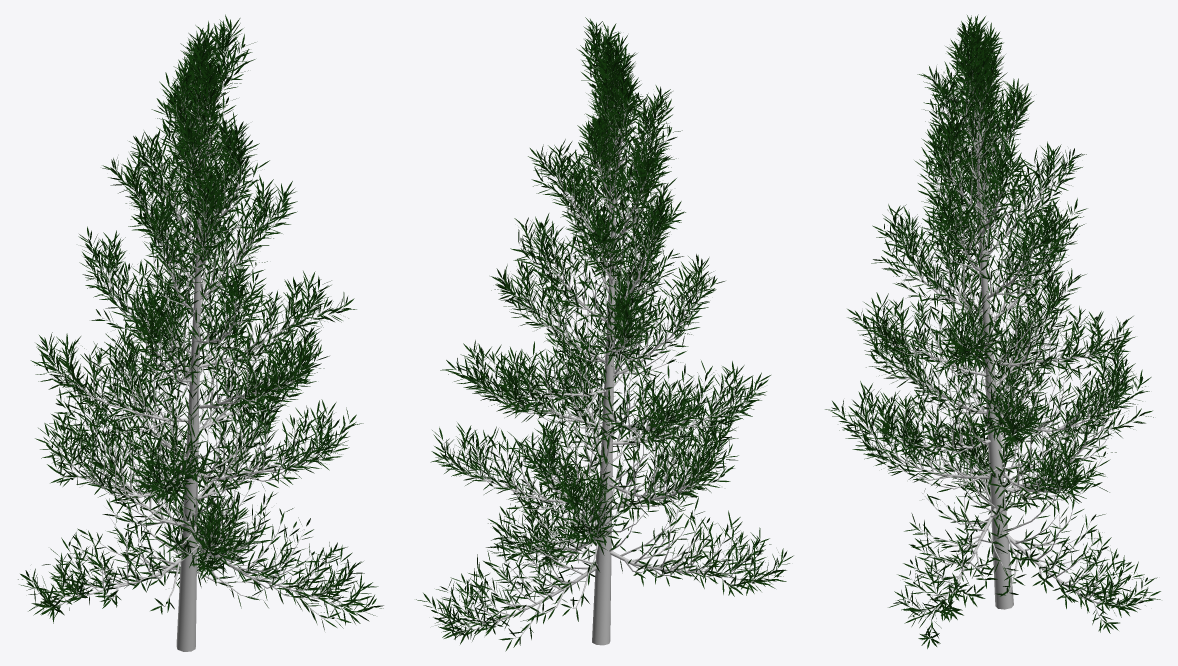
Rendered from Pine.obj.
3 views of the same model, side by side, from view 1: azimuth 30°, elevation 25°; view 2: azimuth 150°, elevation 25°; view 3: azimuth 270°, elevation 25° (orthographic). The views are drawn at different scales.
Parts seen in each view (by area): view 1: leaves, tree_Mesh; view 2: leaves, tree_Mesh; view 3: leaves, tree_Mesh.
Part boxes in pixels (left/top/right/bottom): leaves: left=18, top=14, right=383, bottom=630; tree_Mesh: left=35, top=53, right=352, bottom=651; leaves: left=416, top=17, right=793, bottom=651; tree_Mesh: left=439, top=49, right=769, bottom=645; leaves: left=825, top=14, right=1160, bottom=648; tree_Mesh: left=850, top=46, right=1142, bottom=633.
Bounding box in the file's own units: 4.38 × 7.95 × 4.1.
